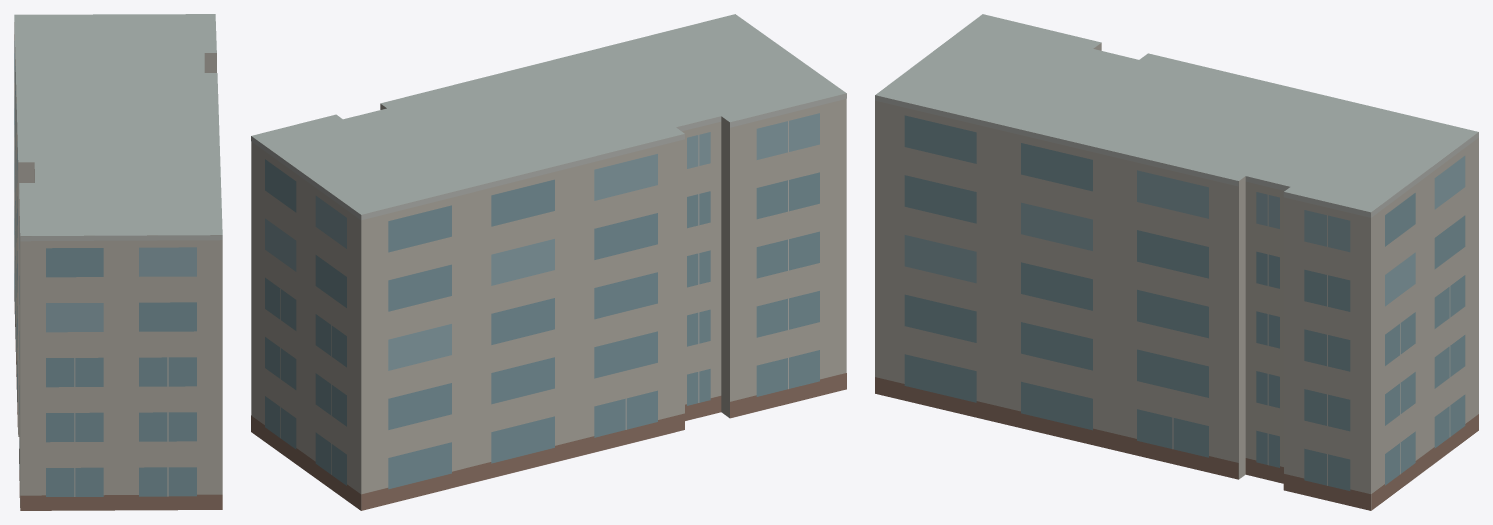
The model's file is survey-upis-32981884.glb.
3 views of the same model, side by side, from view 1: azimuth 30°, elevation 25°; view 2: azimuth 150°, elevation 25°; view 3: azimuth 270°, elevation 25° (orthographic). The views are drawn at different scales.
Parts seen in each view (by area): view 1: survey-upis-32981884.tmp; view 2: survey-upis-32981884.tmp; view 3: survey-upis-32981884.tmp.
Part boxes in pixels (x1,y1,x2,y2): survey-upis-32981884.tmp: (14, 14, 222, 510); survey-upis-32981884.tmp: (251, 14, 846, 510); survey-upis-32981884.tmp: (875, 14, 1478, 510).
Size of the model in its own units: 18.82 by 13.2 by 24.2.
